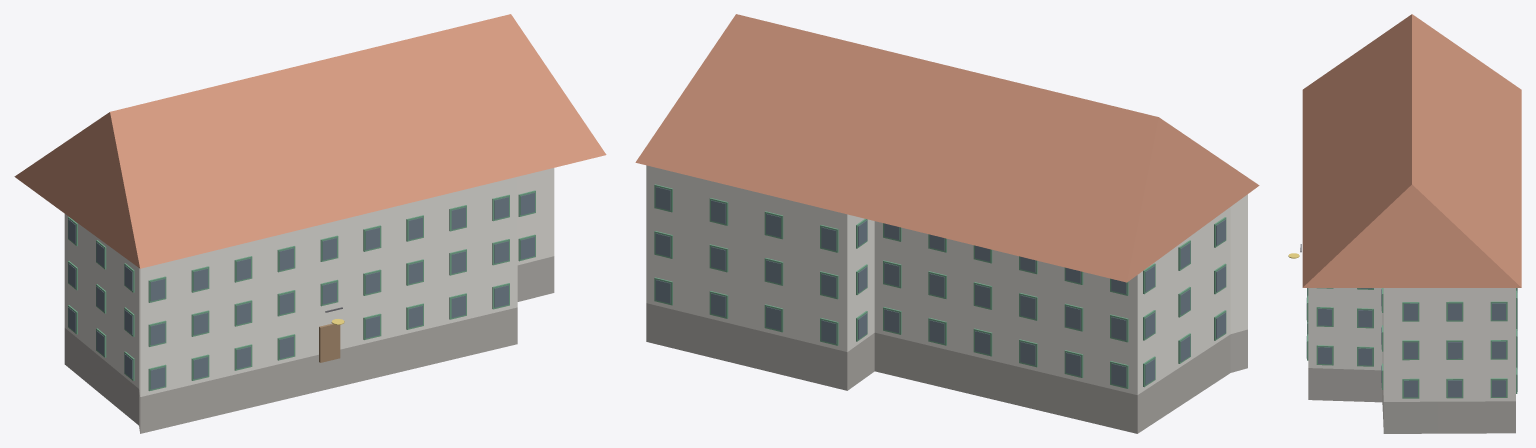
File: inn-zur-schnecke.glb
3 views of the same model, side by side, from view 1: azimuth 30°, elevation 25°; view 2: azimuth 150°, elevation 25°; view 3: azimuth 270°, elevation 25° (orthographic). The views are drawn at different scales.
Parts seen in each view (by area): view 1: building; view 2: building; view 3: building.
Boxes of the visible parts, left/top/right/bottom form: building: left=14, top=14, right=606, bottom=433; building: left=635, top=14, right=1259, bottom=433; building: left=1288, top=14, right=1521, bottom=433.
Bounding box in the file's own units: 33.19 × 18.6 × 16.51.
